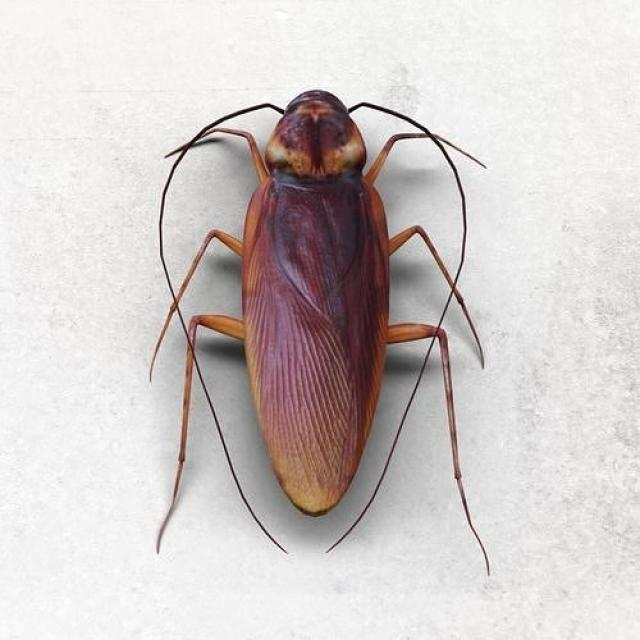Cockroach: (140, 69, 497, 578)
